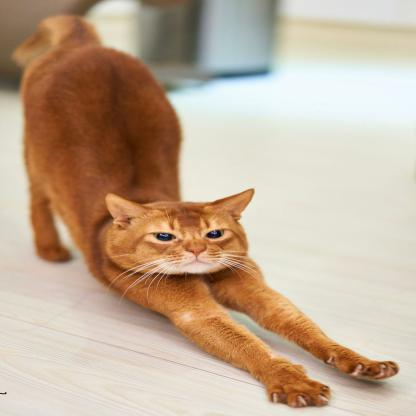cat: (1, 2, 404, 416)
